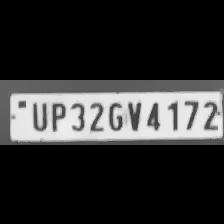1: (162, 97, 182, 130)
2: (196, 98, 220, 130), (85, 98, 105, 132)
3: (66, 98, 86, 132)
4: (142, 97, 162, 130)
7: (179, 97, 199, 130)
G: (105, 100, 125, 132)
P: (46, 100, 66, 132)
U: (28, 99, 48, 131)
V: (124, 98, 144, 132)
